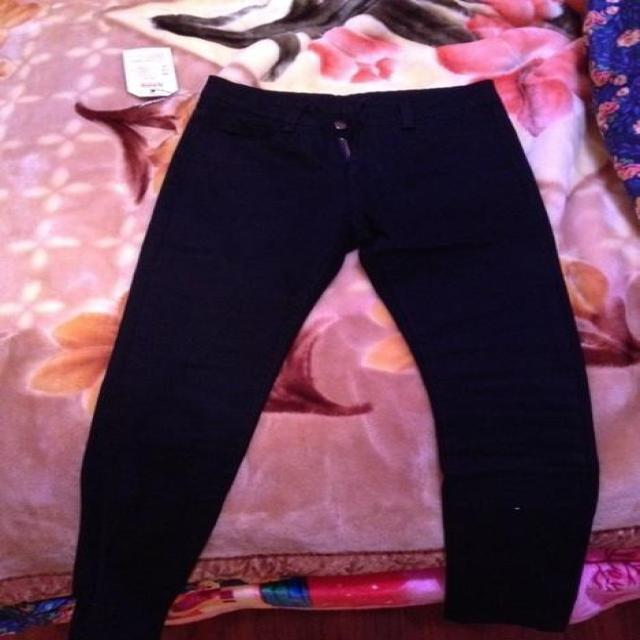trousers: (72, 78, 599, 638)
